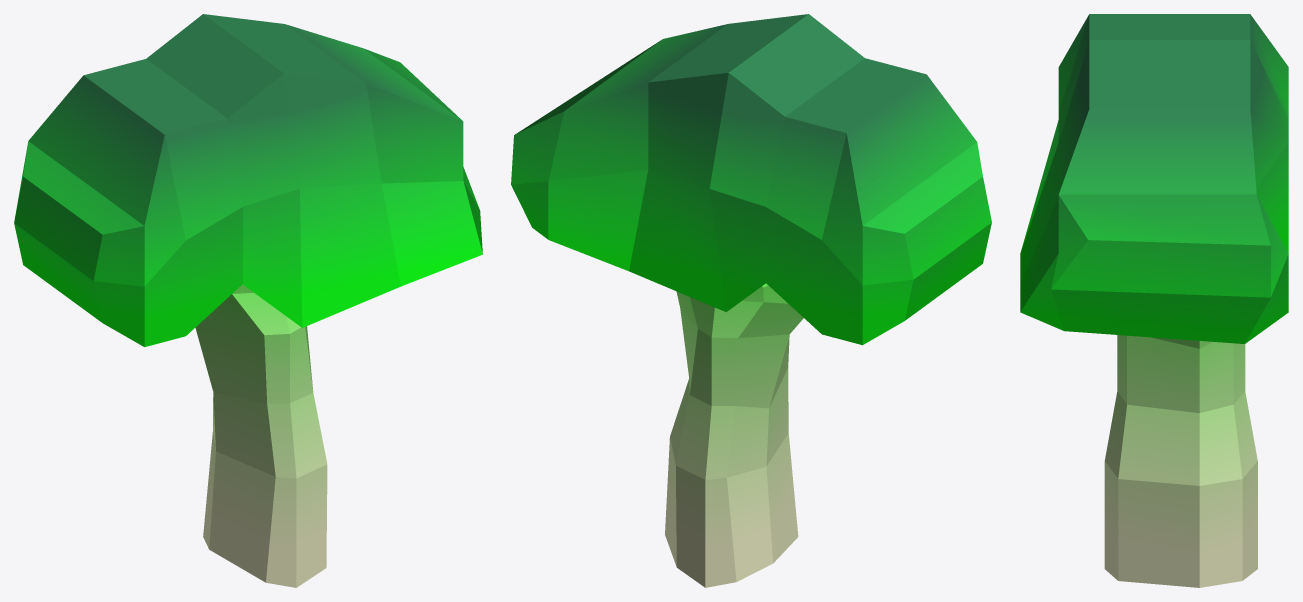
Rendered from Broccolli.glb.
3 views of the same model, side by side, from view 1: azimuth 30°, elevation 25°; view 2: azimuth 150°, elevation 25°; view 3: azimuth 270°, elevation 25° (orthographic).
Parts seen in each view (by area): view 1: Cube, Cylinder; view 2: Cube, Cylinder; view 3: Cube, Cylinder.
Boxes of the visible parts, x1,y1,x2,y2 form: Cube: [14, 14, 482, 347]; Cylinder: [195, 284, 327, 587]; Cube: [511, 14, 991, 345]; Cylinder: [665, 283, 803, 587]; Cube: [1020, 14, 1288, 343]; Cylinder: [1104, 335, 1257, 587].
Bounding box in the file's own units: 3.96 × 4.98 × 2.33.
2 materials, 2 textured.
